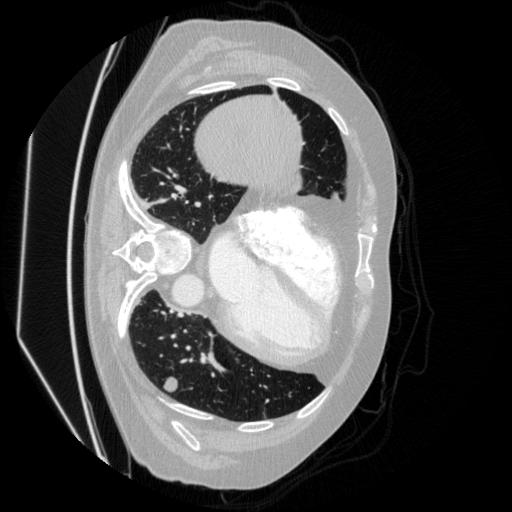nodule: (163, 374, 183, 394)
